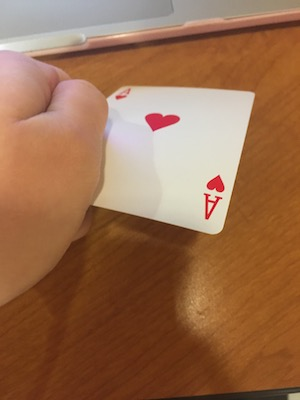AceOfHearts: (89, 82, 256, 236)
